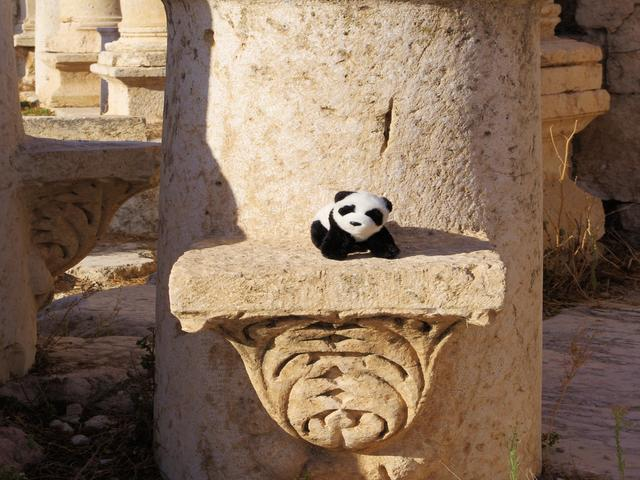panda: (292, 181, 433, 271)
